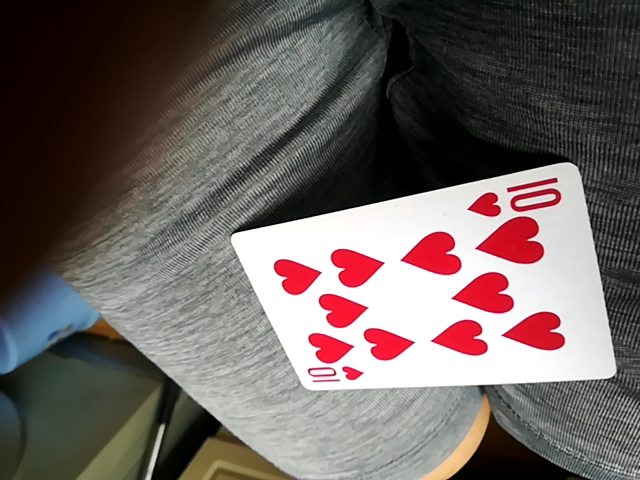hx 10: (230, 162, 613, 389)
